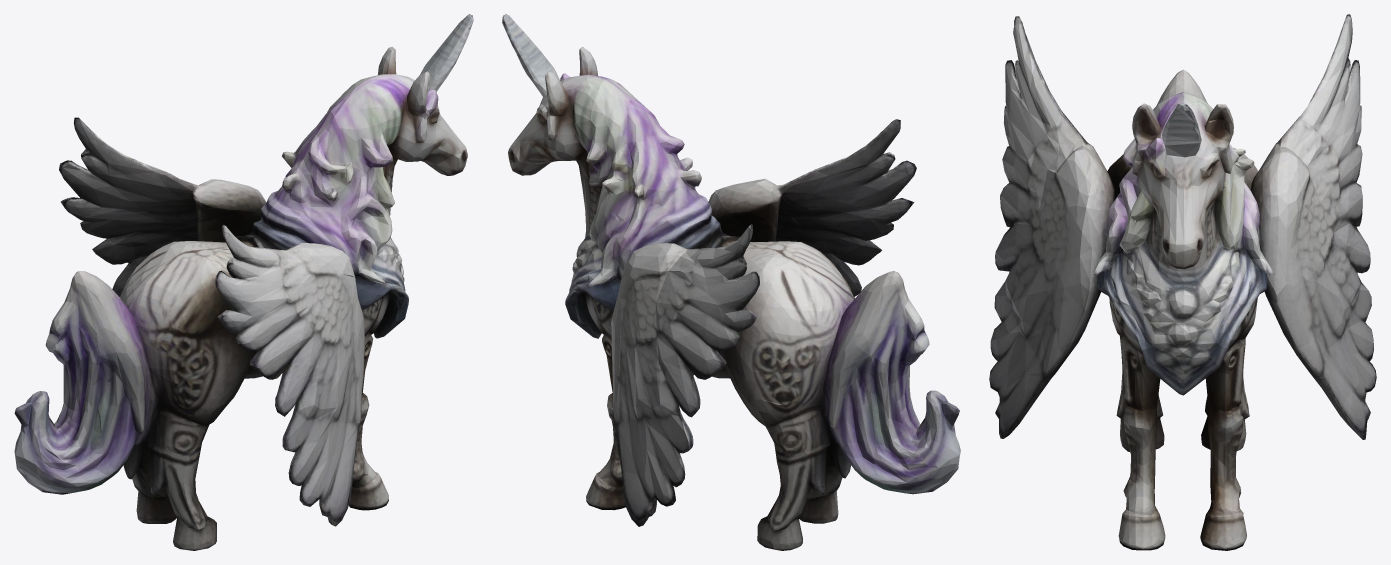
File: auroracorn__swanguard.glb
The picture shows the model from 3 angles, left to right: view 1: azimuth 30°, elevation 25°; view 2: azimuth 150°, elevation 25°; view 3: azimuth 270°, elevation 25°; orthographic projection. The views are drawn at different scales.
Parts seen in each view (by area): view 1: world; view 2: world; view 3: world.
Part boxes in pixels (x1=…): world: x1=14, y1=14, x2=473, y2=550; world: x1=502, y1=14, x2=960, y2=550; world: x1=989, y1=14, x2=1376, y2=550.
Size of the model in its own units: 0.906 by 0.8411 by 0.5859.
Materials: 1 (1 with a texture image).
